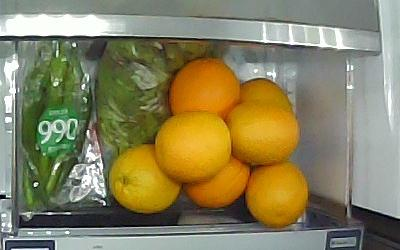orange: (154, 110, 231, 182), (107, 142, 182, 213), (224, 99, 300, 165), (167, 55, 240, 119), (244, 159, 308, 227), (184, 153, 250, 208), (238, 76, 294, 116)
